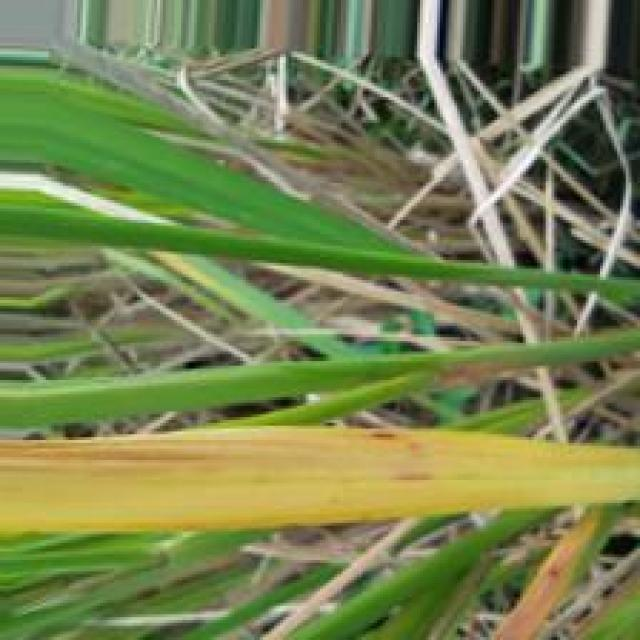Narrow_Brown_Leaf_Spot: (0, 426, 640, 538)
